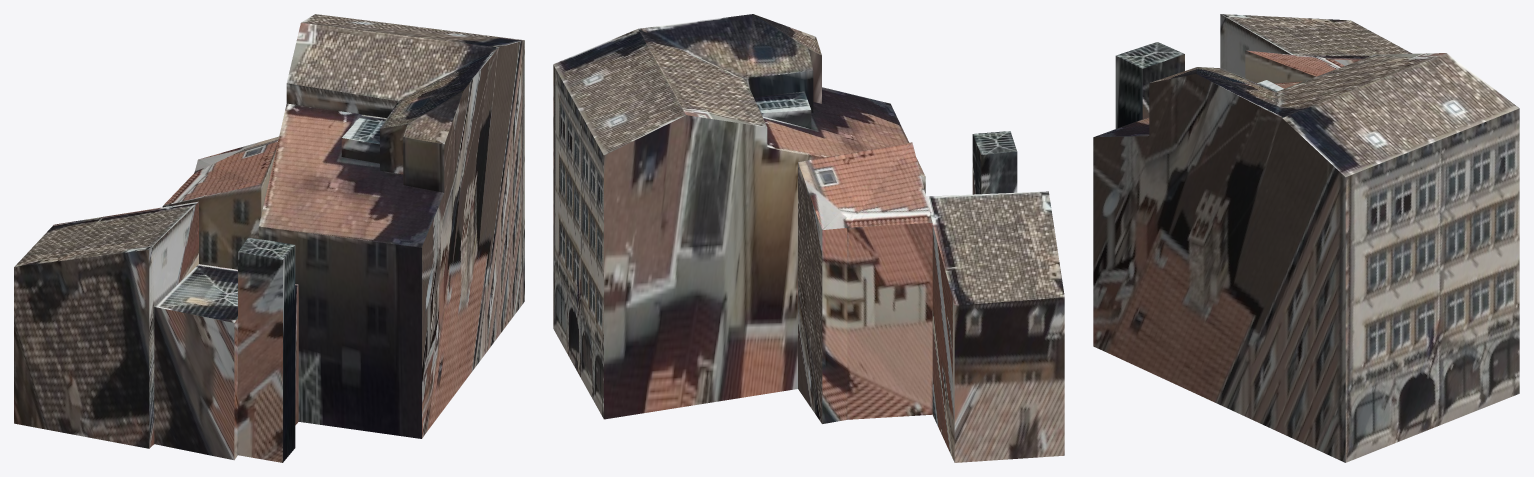
3 renders of one model, left to right at view 1: azimuth 30°, elevation 25°; view 2: azimuth 150°, elevation 25°; view 3: azimuth 270°, elevation 25°, orthographic. The views are drawn at different scales.
Parts seen in each view (by area): view 1: Z_UP; view 2: Z_UP; view 3: Z_UP.
Part boxes in pixels (box(x1,y1,x2,y2)): Z_UP: box(14, 14, 524, 462); Z_UP: box(553, 14, 1064, 462); Z_UP: box(1093, 14, 1519, 462).
Bounding box in the file's own units: 34.76 × 19.12 × 23.1.
2 materials, 1 textured.
